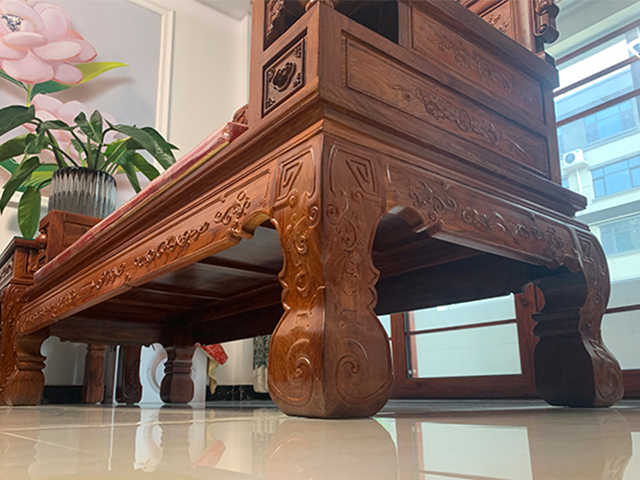sofa: (1, 1, 621, 418)
